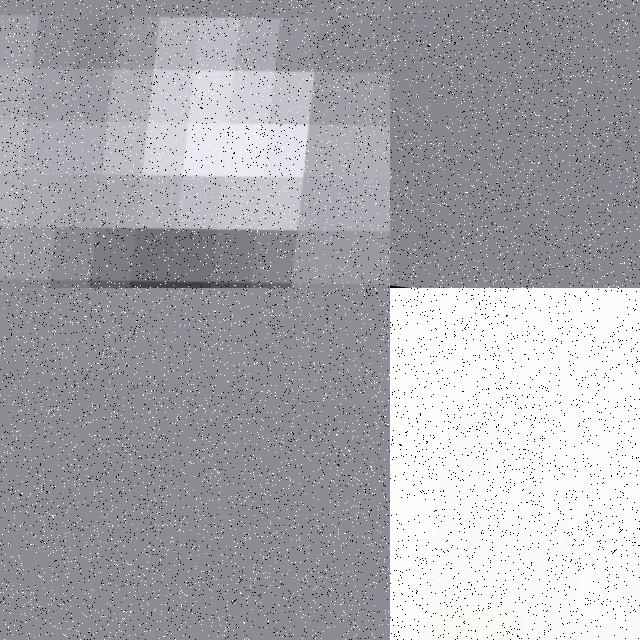drone: (0, 0, 390, 288)
